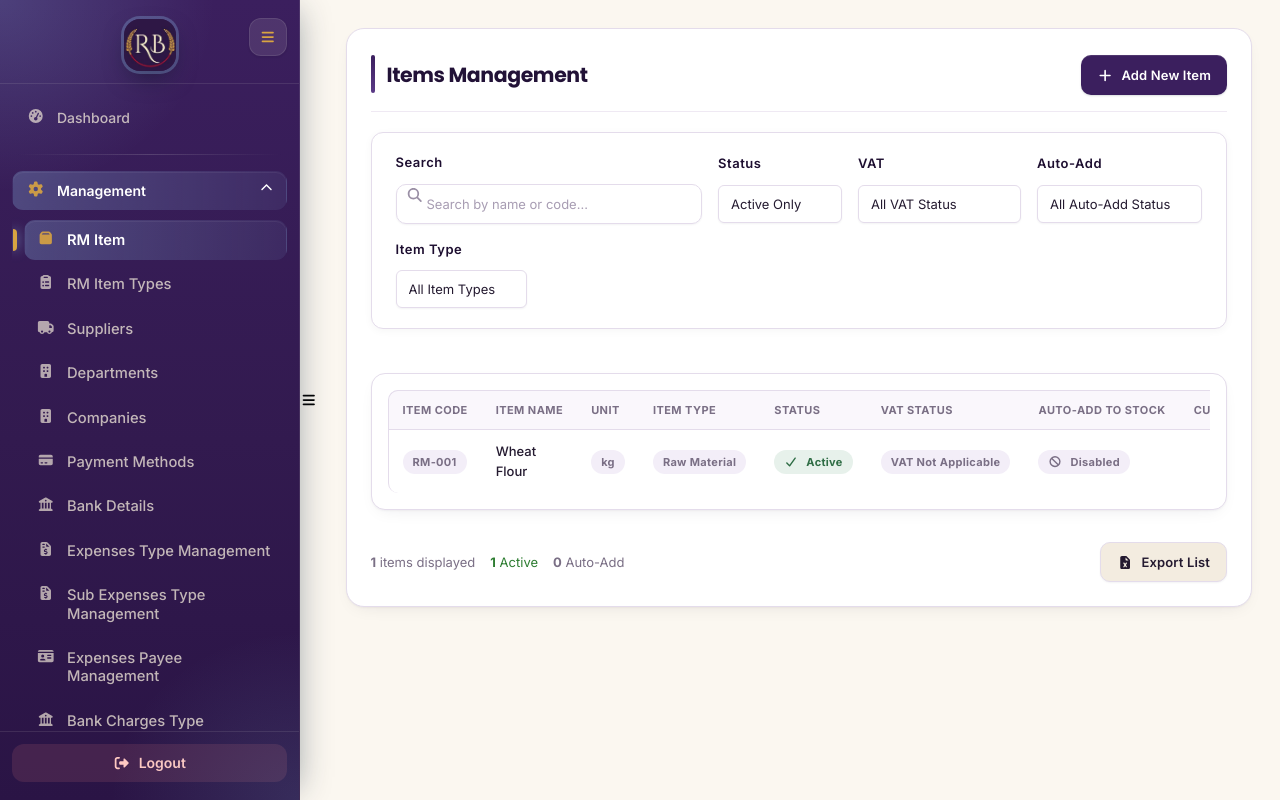
Scenario: a route popup opens over the page, and the page stays mounted while it is open and after it closes
Expected: the text "Wheat Flour" is shown, [496, 443, 536, 479]
Click the button "Add New Item" at point(1154, 75), box [1081, 55, 1227, 95]
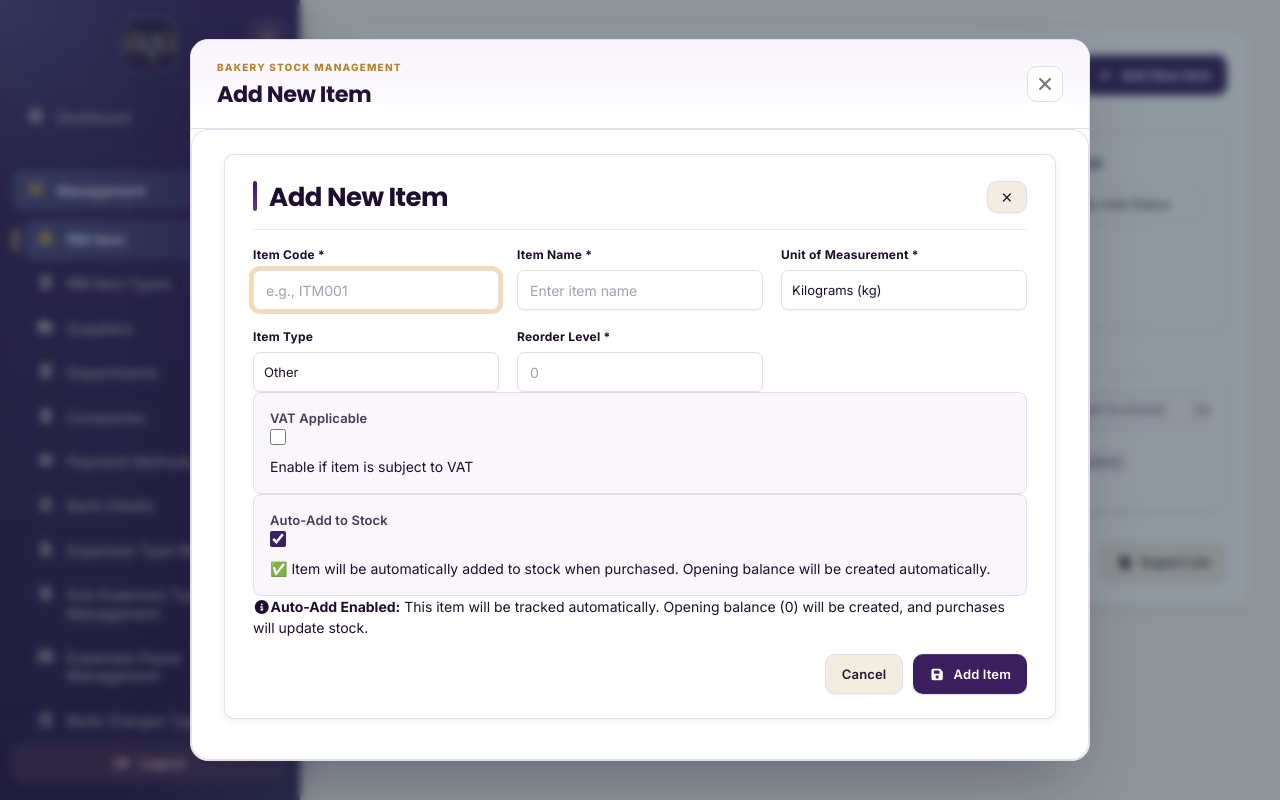
Expected: the heading "Items Management" is shown, [386, 62, 588, 88]
The popup's own × (the form inside has a second one - UI-024).
Click the button named "Close" in the row of "Bakery stock management" at point(1045, 84), box [1027, 66, 1063, 102]
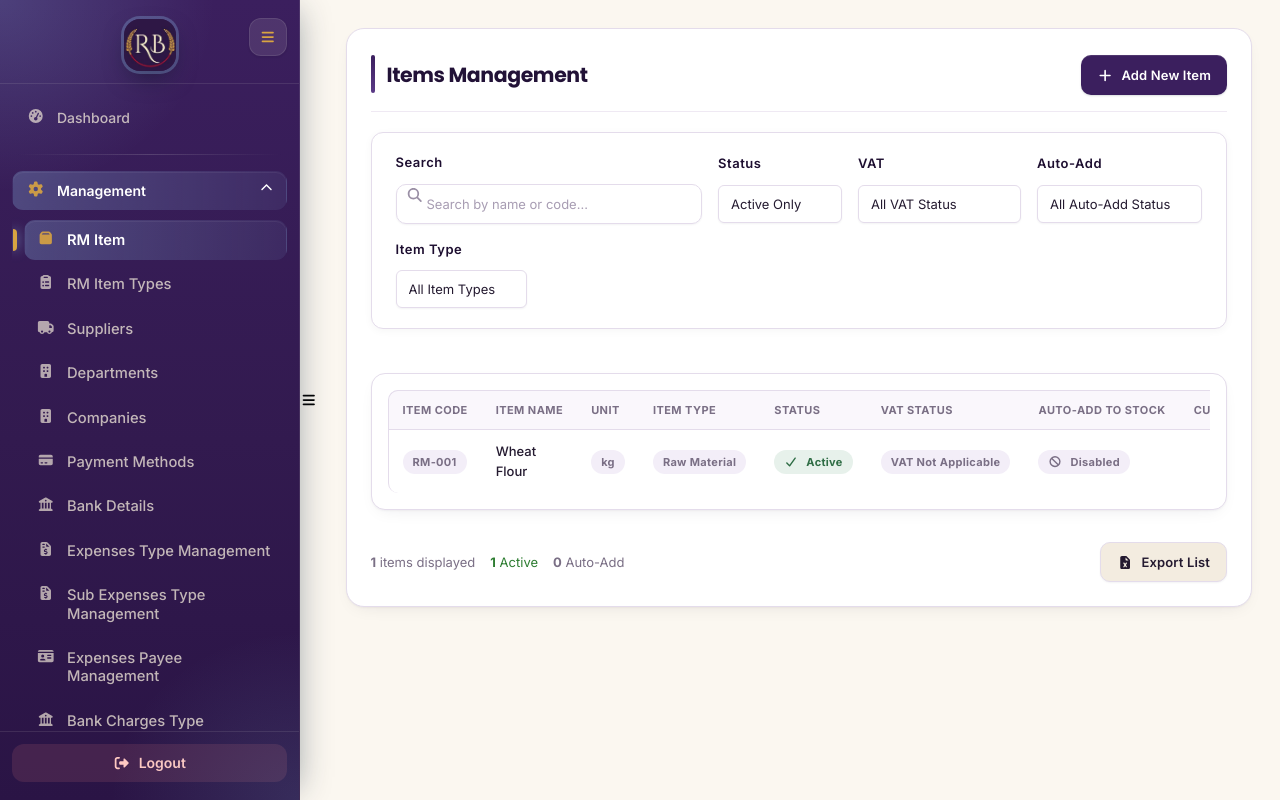
Result: the dialog is gone
